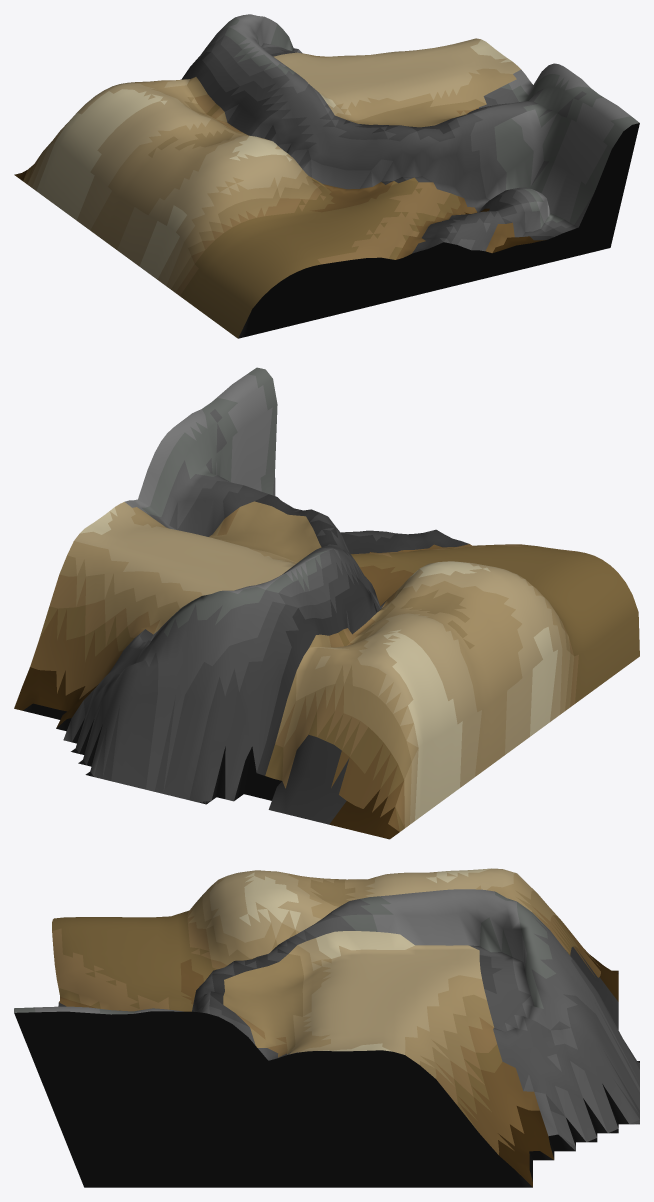
The model's file is rock_machine_tl.glb.
3 renders of one model, top to bottom at view 1: azimuth 30°, elevation 25°; view 2: azimuth 150°, elevation 25°; view 3: azimuth 270°, elevation 25°, orthographic. The views are drawn at different scales.
Parts seen in each view (by area): view 1: rock_machine_tl; view 2: rock_machine_tl; view 3: rock_machine_tl.
Part boxes in pixels (<box>): rock_machine_tl: <box>14,14,639,338</box>; rock_machine_tl: <box>14,367,639,839</box>; rock_machine_tl: <box>14,868,639,1187</box>.
Bounding box in the file's own units: 24 × 9.11 × 29.28.
